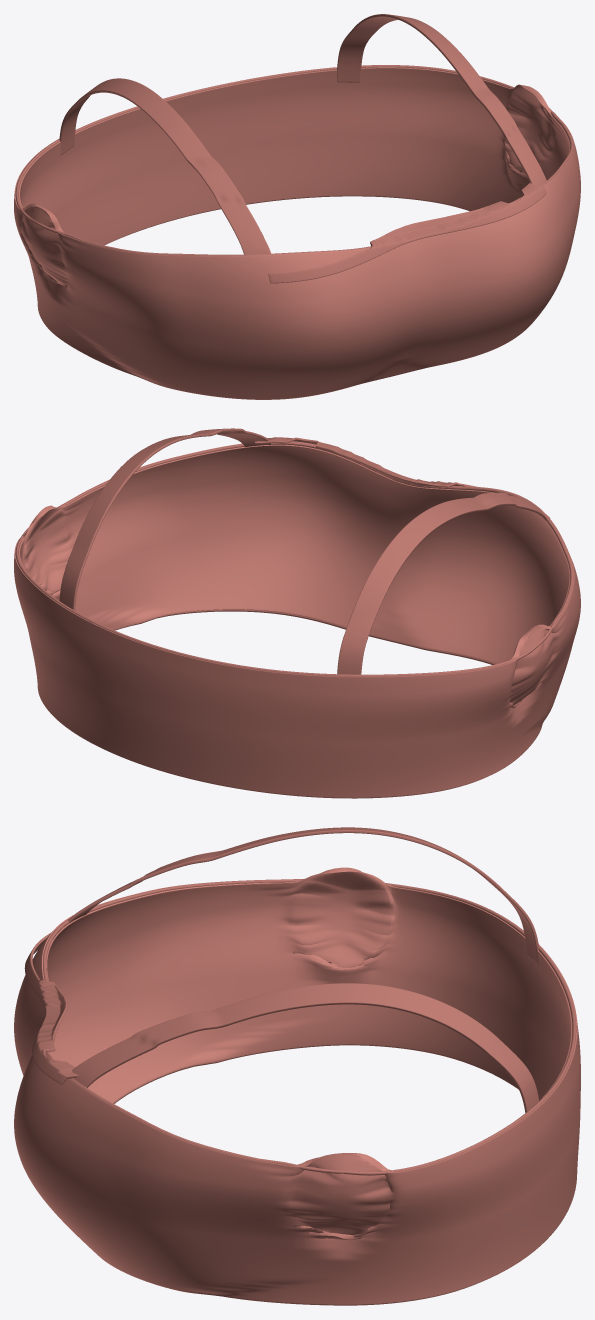
File: Feminine-strappy-top.glb
3 renders of one model, top to bottom at view 1: azimuth 30°, elevation 25°; view 2: azimuth 150°, elevation 25°; view 3: azimuth 270°, elevation 25°, orthographic. The views are drawn at different scales.
Visible parts, largest first — view 1: Clothing / strappy body, Clothing / Strappy seated shoulder strap -1, Clothing / Strappy seated shoulder strap 1, Crop / seated cross strap, strappy body / bound edge.001 export; view 2: Clothing / strappy body, Clothing / Strappy seated shoulder strap -1, Clothing / Strappy seated shoulder strap 1, strappy body / bound edge.001 export, Crop / seated cross strap, strappy body / bound edge export; view 3: Clothing / strappy body, Clothing / Strappy seated shoulder strap 1, strappy body / bound edge.001 export, Clothing / Strappy seated shoulder strap -1, Crop / seated cross strap, strappy body / bound edge export.
Boxes of the visible parts, <box> form: Clothing / strappy body: <box>14,67,580,399</box>; Clothing / Strappy seated shoulder strap -1: <box>59,78,270,254</box>; Clothing / Strappy seated shoulder strap 1: <box>337,14,546,184</box>; Crop / seated cross strap: <box>268,181,546,283</box>; strappy body / bound edge.001 export: <box>15,65,573,256</box>; Clothing / strappy body: <box>14,441,580,797</box>; Clothing / Strappy seated shoulder strap -1: <box>337,492,546,674</box>; Clothing / Strappy seated shoulder strap 1: <box>59,428,271,610</box>; strappy body / bound edge.001 export: <box>15,442,573,676</box>; Crop / seated cross strap: <box>255,437,550,518</box>; strappy body / bound edge export: <box>115,609,494,798</box>; Clothing / strappy body: <box>14,867,580,1304</box>; Clothing / Strappy seated shoulder strap 1: <box>72,983,539,1112</box>; strappy body / bound edge.001 export: <box>43,879,576,1175</box>; Clothing / Strappy seated shoulder strap -1: <box>68,827,539,964</box>; Crop / seated cross strap: <box>24,933,78,1084</box>; strappy body / bound edge export: <box>113,1044,489,1305</box>.
Size of the model in its own units: 0.6455 by 0.2881 by 0.5245.
